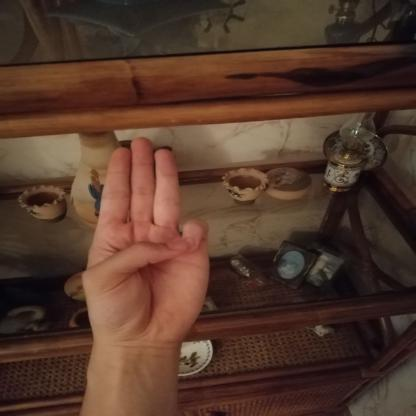THA: (67, 127, 221, 356)
